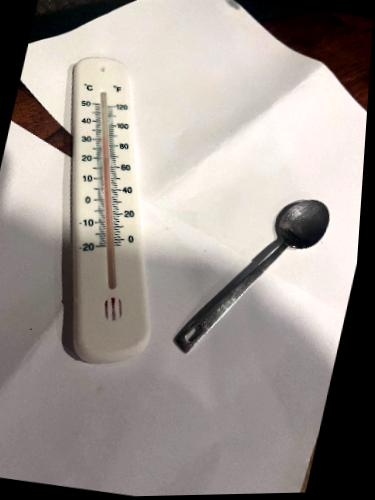thermo: (74, 61, 151, 350)
